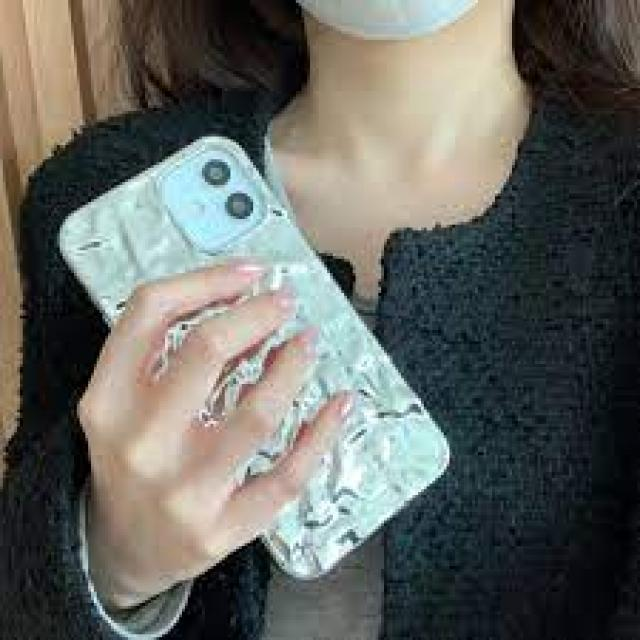Phone: (55, 134, 453, 590)
